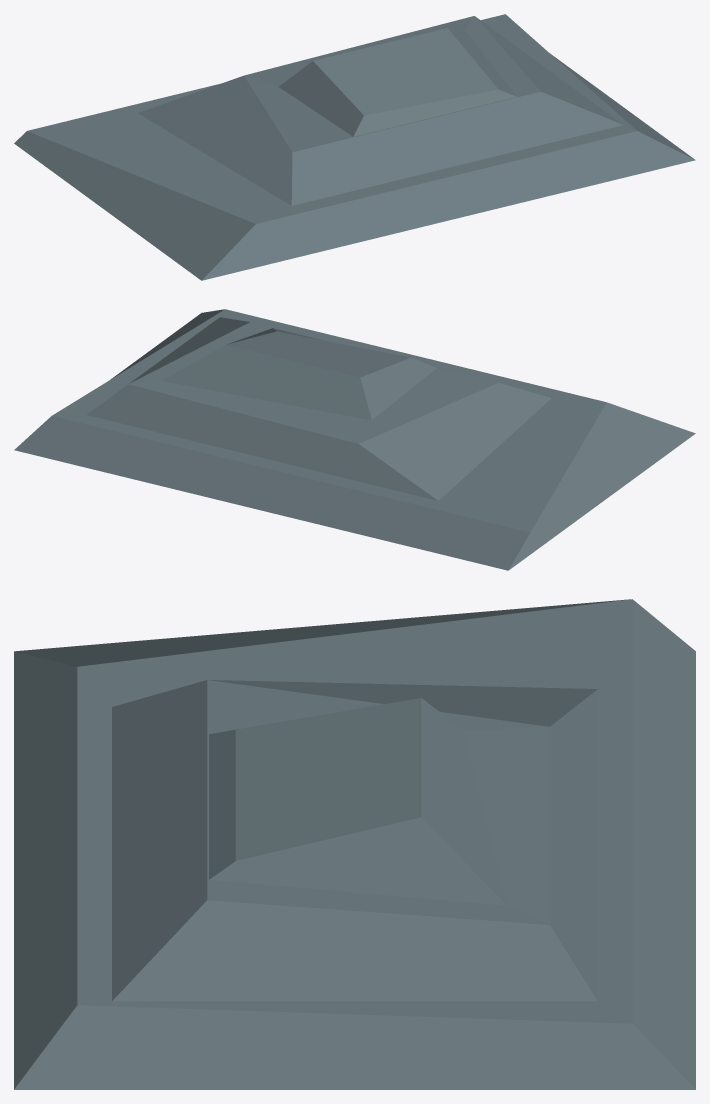
Rendered from Steen vierkant2.fbx.
The picture shows the model from 3 angles, top to bottom: view 1: azimuth 30°, elevation 25°; view 2: azimuth 150°, elevation 25°; view 3: azimuth 270°, elevation 25°; orthographic projection. The views are drawn at different scales.
Parts seen in each view (by area): view 1: Blad Struik; view 2: Blad Struik; view 3: Blad Struik.
Boxes of the visible parts, <box> form: Blad Struik: <box>14,14,695,280</box>; Blad Struik: <box>14,309,695,570</box>; Blad Struik: <box>14,599,695,1089</box>.
Size of the model in its own units: 192 by 30.73 by 125.
